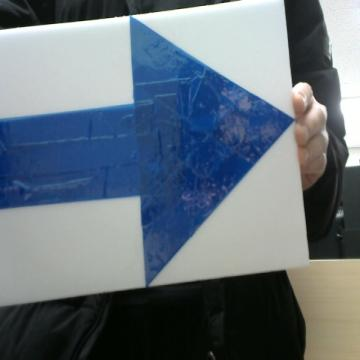blue_right: (0, 18, 293, 285)
